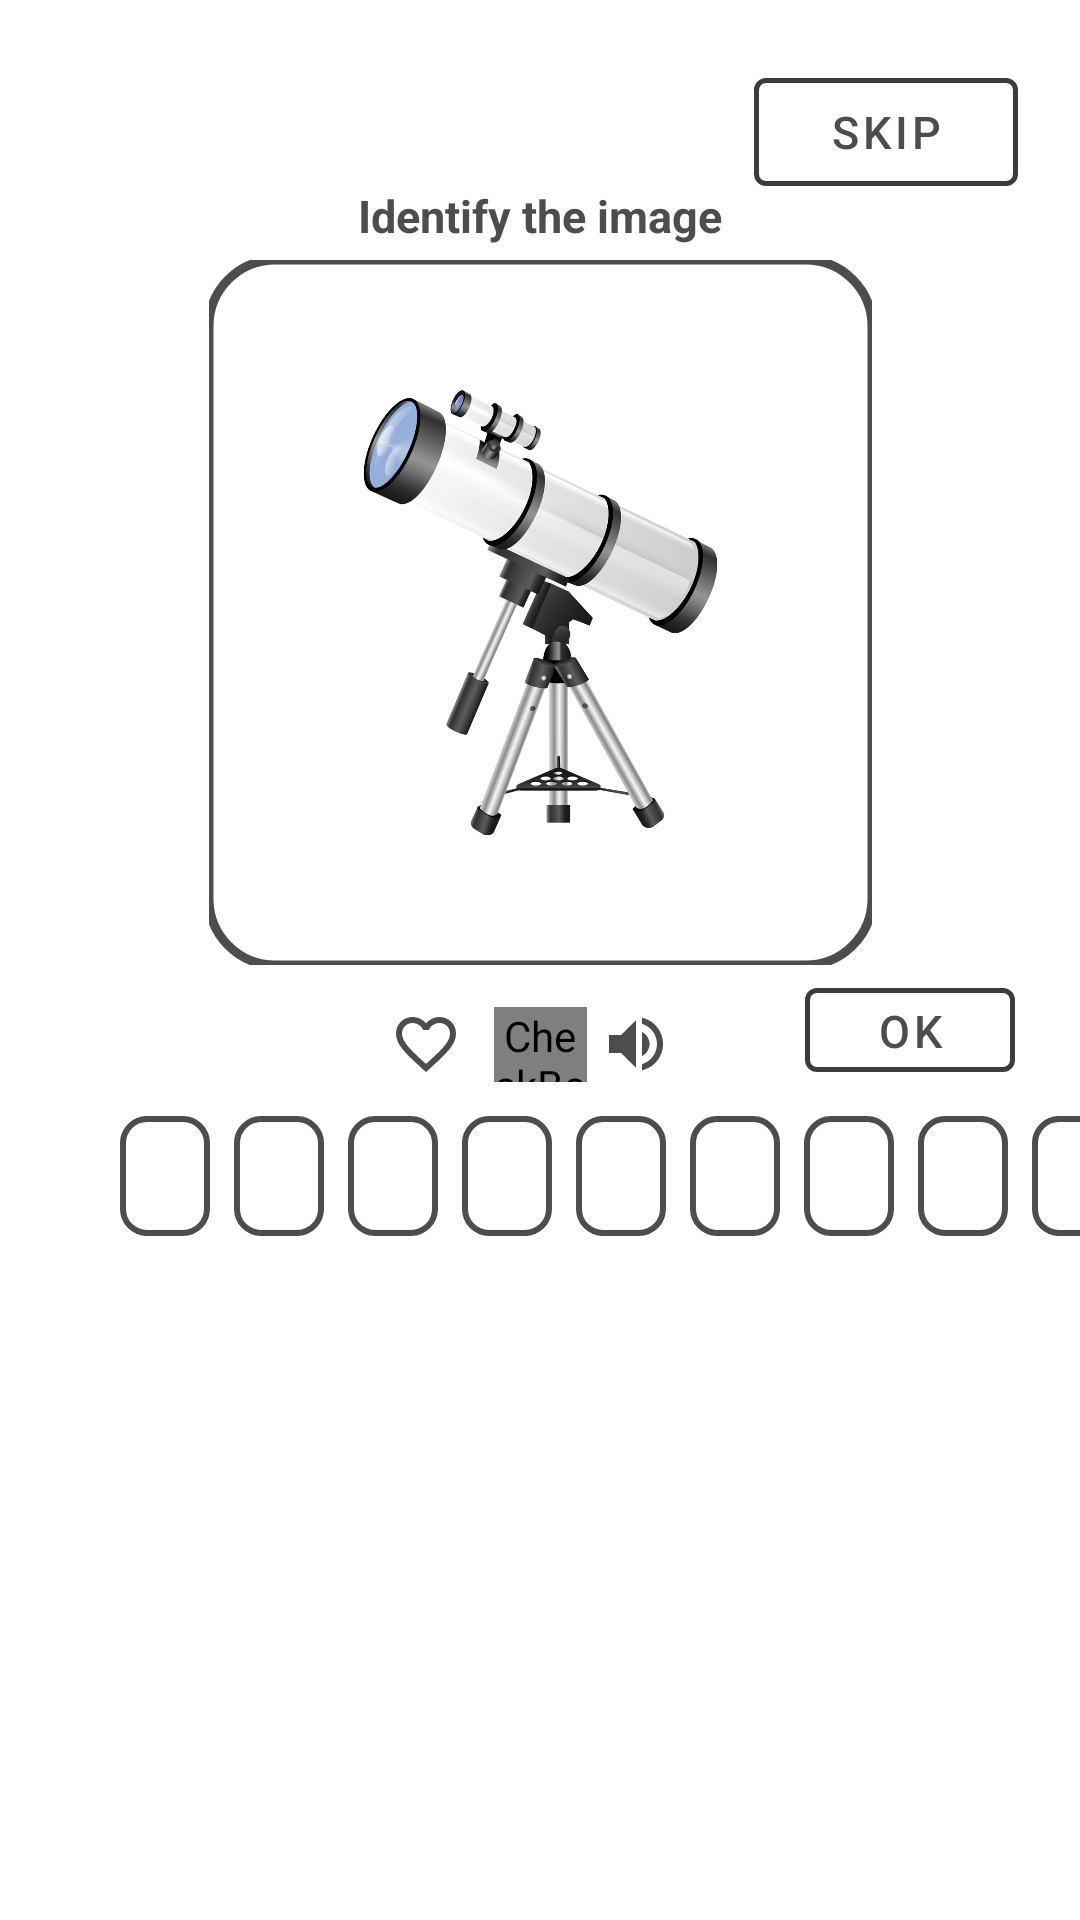

Icon click points for this 1080*1920 phone screenshot, format [x,y]:
favourite item: [426,1044]
speaker: [636,1044]
